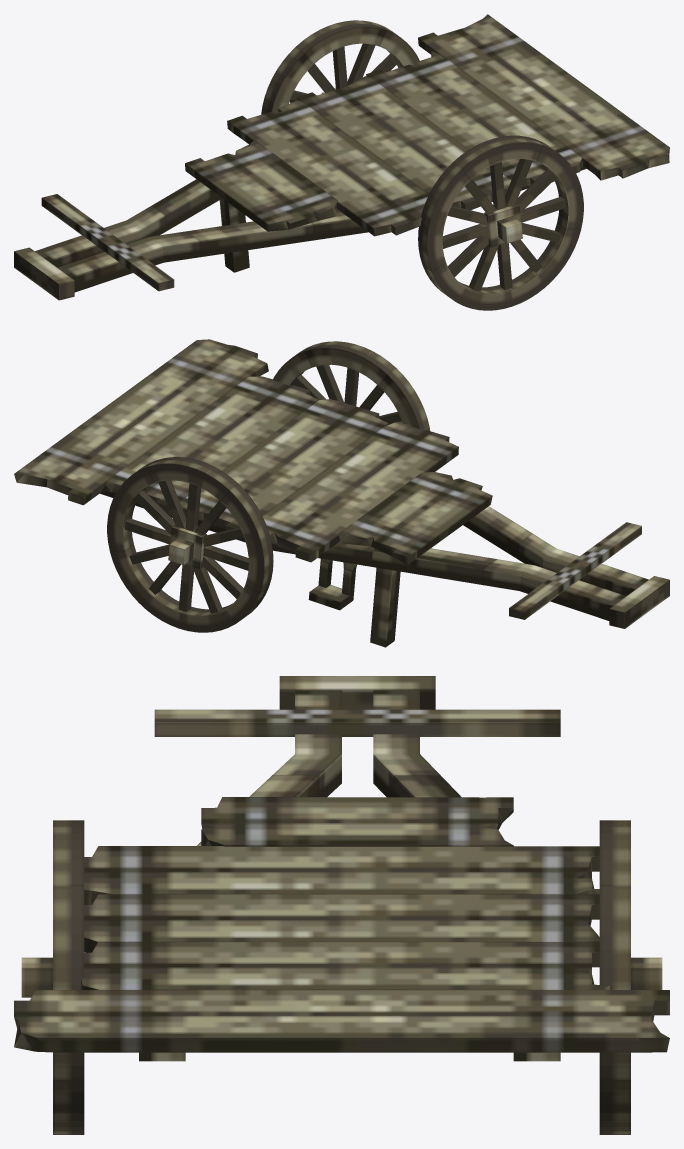
File: ObjMD_Desert_Wagon_A.FBX
3 renders of one model, top to bottom at view 1: azimuth 30°, elevation 25°; view 2: azimuth 150°, elevation 25°; view 3: azimuth 270°, elevation 25°, orthographic. The views are drawn at different scales.
Parts seen in each view (by area): view 1: ObjMD_Desert_Wagon_A; view 2: ObjMD_Desert_Wagon_A; view 3: ObjMD_Desert_Wagon_A.
Part boxes in pixels (x1,y1,x2,y2): ObjMD_Desert_Wagon_A: (14,14,669,310); ObjMD_Desert_Wagon_A: (14,339,669,647); ObjMD_Desert_Wagon_A: (14,676,669,1134).
Bounding box in the file's own units: 435 × 134 × 262.
